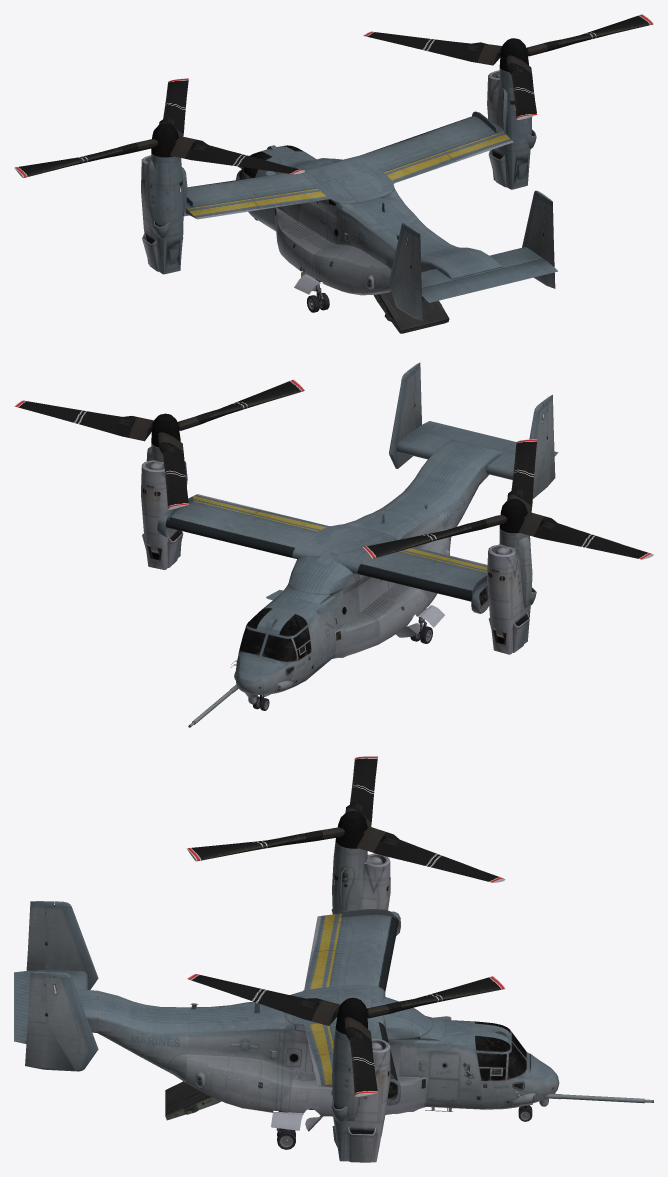
The model's file is HelicopteroMalo.fbx.
3 views of the same model, one above another, from view 1: azimuth 30°, elevation 25°; view 2: azimuth 150°, elevation 25°; view 3: azimuth 270°, elevation 25° (orthographic). The views are drawn at different scales.
Parts seen in each view (by area): view 1: Object_4, Object_3; view 2: Object_4, Object_3, Object_2; view 3: Object_4, Object_3, Object_2.
Part boxes in pixels (left/top/right/bottom): Object_4: left=183, top=111, right=558, bottom=333; Object_3: left=14, top=14, right=653, bottom=294; Object_4: left=157, top=362, right=558, bottom=727; Object_3: left=14, top=379, right=653, bottom=694; Object_2: left=239, top=607, right=346, bottom=674; Object_4: left=14, top=901, right=653, bottom=1149; Object_3: left=107, top=756, right=559, bottom=1162; Object_2: left=289, top=1021, right=526, bottom=1089.
Size of the model in its own units: 96372 by 28430 by 77195.
Materials: 3 (3 with a texture image).
